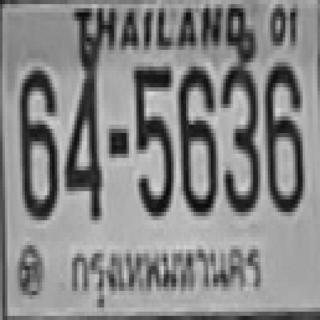N03: (221, 62, 258, 212)
N04: (64, 58, 99, 216)
N05: (131, 62, 171, 212)
N06: (263, 60, 303, 210), (176, 62, 216, 212), (17, 69, 57, 218)
P04: (67, 238, 270, 309)
